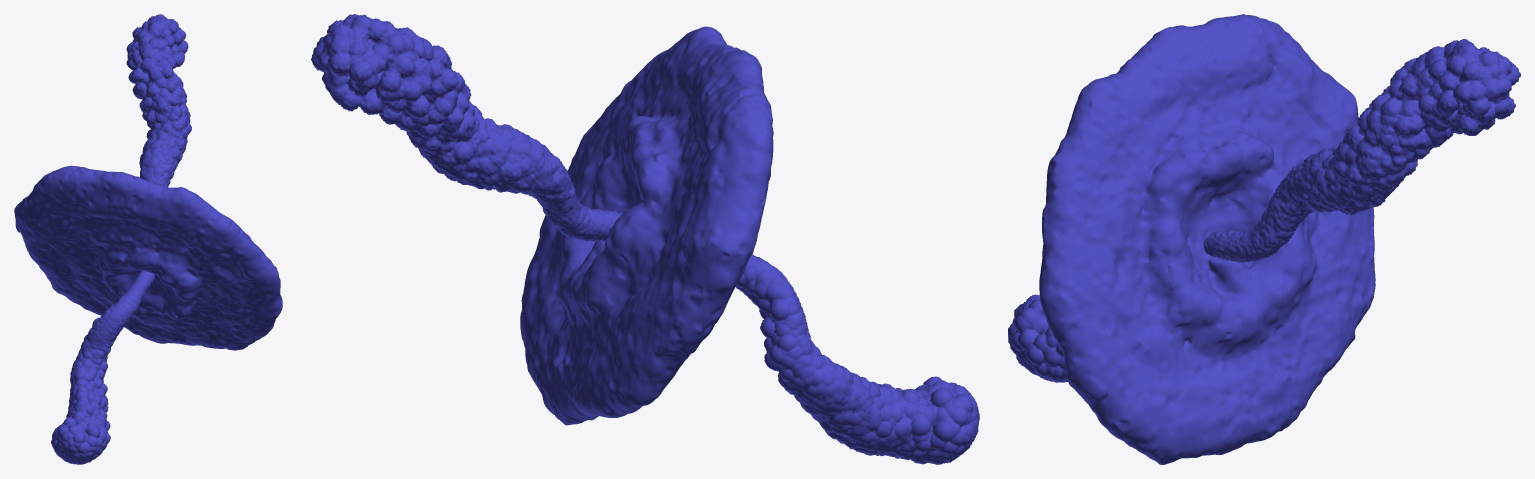
Rendered from neb-crab.glb.
3 renders of one model, left to right at view 1: azimuth 30°, elevation 25°; view 2: azimuth 150°, elevation 25°; view 3: azimuth 270°, elevation 25°, orthographic. The views are drawn at different scales.
Parts seen in each view (by area): view 1: CrabNebulaXrayModel_OBJexport; view 2: CrabNebulaXrayModel_OBJexport; view 3: CrabNebulaXrayModel_OBJexport.
Part boxes in pixels (x1,y1,x2,y2): CrabNebulaXrayModel_OBJexport: (14,14,282,464); CrabNebulaXrayModel_OBJexport: (311,14,979,464); CrabNebulaXrayModel_OBJexport: (1008,14,1520,464).
Size of the model in its own units: 171 by 190 by 178.
